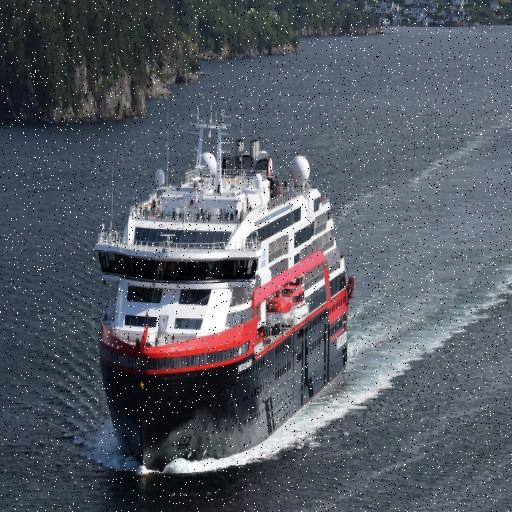cruises: (90, 97, 364, 479)
